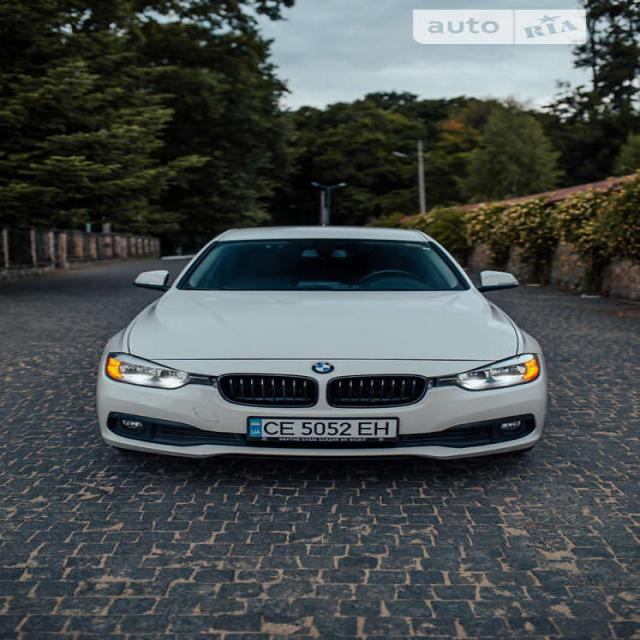plate: (240, 410, 415, 449)
